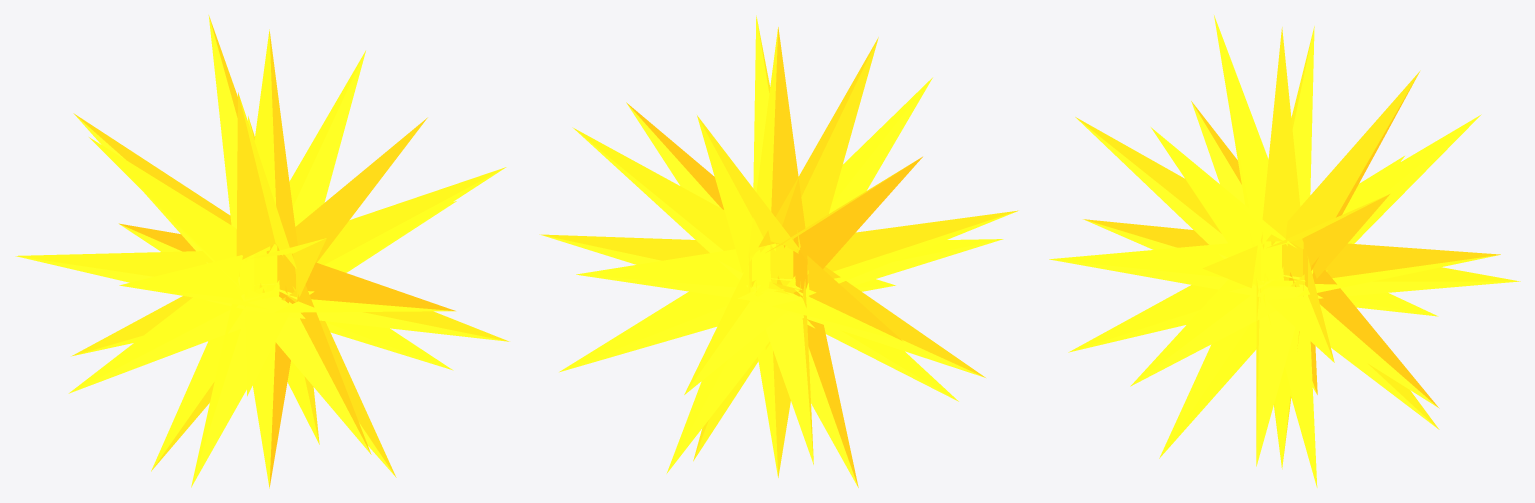
File: burst.glb
3 views of the same model, side by side, from view 1: azimuth 30°, elevation 25°; view 2: azimuth 150°, elevation 25°; view 3: azimuth 270°, elevation 25° (orthographic). The views are drawn at different scales.
Parts seen in each view (by area): view 1: burst; view 2: burst; view 3: burst.
Part boxes in pixels (x1,y1,x2,y2): burst: (15,15,509,488); burst: (539,15,1018,487); burst: (1049,15,1520,487).
Size of the model in its own units: 1.19 by 1.24 by 1.2.
